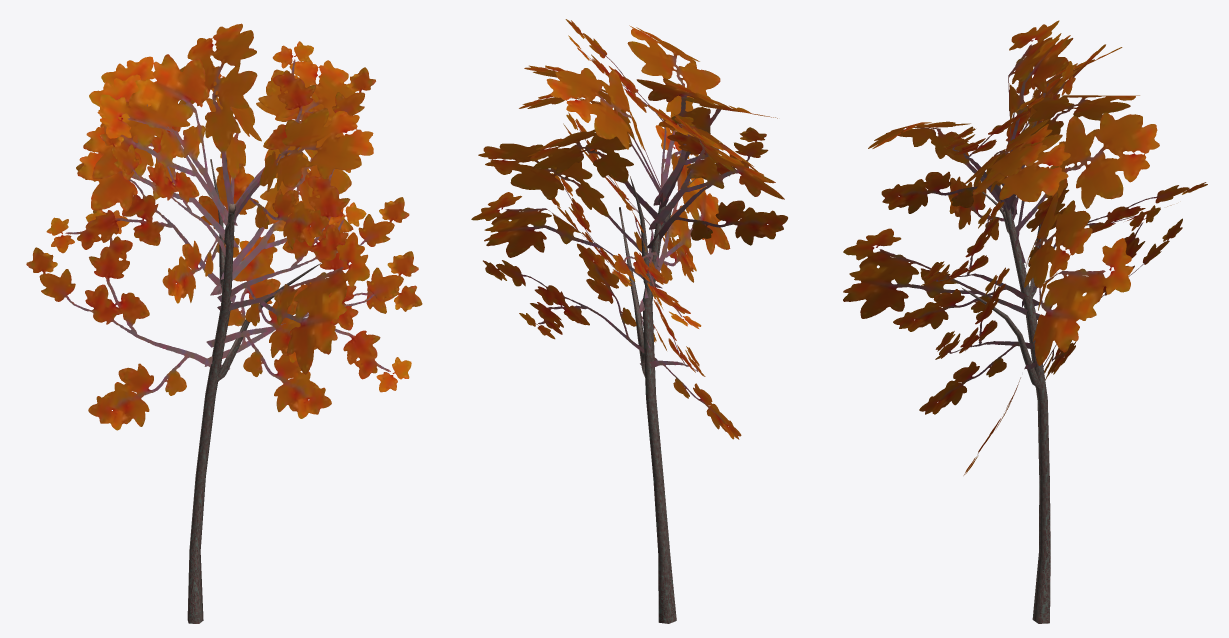
3 renders of one model, left to right at view 1: azimuth 30°, elevation 25°; view 2: azimuth 150°, elevation 25°; view 3: azimuth 270°, elevation 25°, orthographic. The views are drawn at different scales.
Parts seen in each view (by area): view 1: SM_MapleTree_Sapling_01_LOD0; view 2: SM_MapleTree_Sapling_01_LOD0; view 3: SM_MapleTree_Sapling_01_LOD0.
Part boxes in pixels (x1,y1,x2,y2): SM_MapleTree_Sapling_01_LOD0: (26,23,422,623); SM_MapleTree_Sapling_01_LOD0: (471,19,787,623); SM_MapleTree_Sapling_01_LOD0: (843,20,1207,623).
Size of the model in its own units: 1.25 by 2.01 by 1.2.
Materials: 2 (2 with a texture image).
